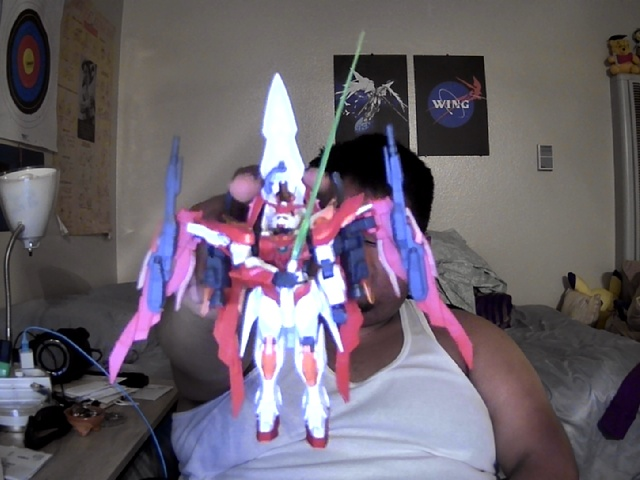Honoo: (108, 72, 473, 449)
